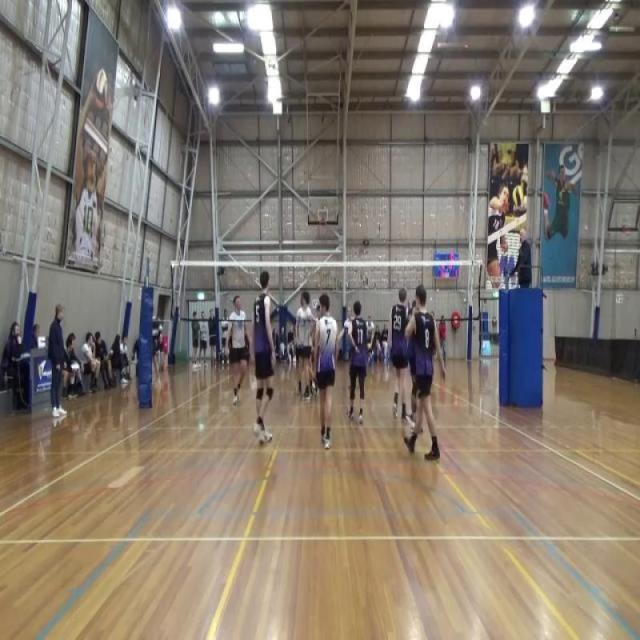volleyball: (94, 68, 110, 114), (512, 184, 525, 208), (366, 342, 372, 350)
